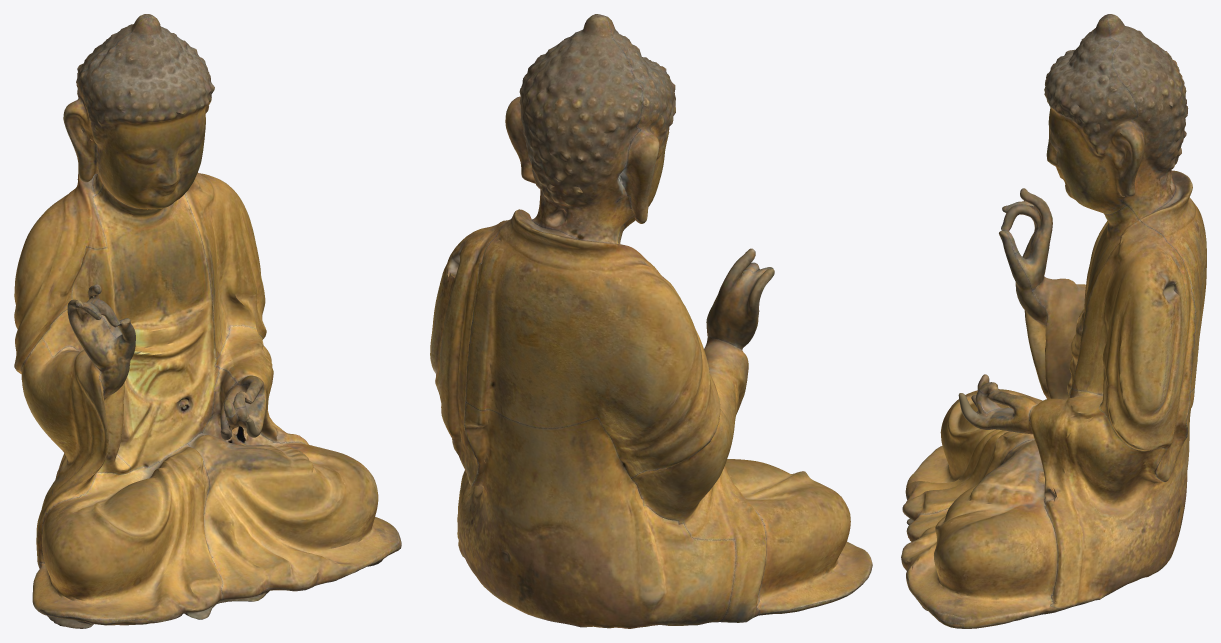
The model's file is duksu-2116-seated.glb.
3 views of the same model, side by side, from view 1: azimuth 30°, elevation 25°; view 2: azimuth 150°, elevation 25°; view 3: azimuth 270°, elevation 25° (orthographic). The views are drawn at different scales.
Visible parts, largest first — view 1: duk002116_002_30000; view 2: duk002116_002_30000; view 3: duk002116_002_30000.
Part boxes in pixels (x1,y1,x2,y2): duk002116_002_30000: [14, 14, 401, 628]; duk002116_002_30000: [430, 14, 872, 628]; duk002116_002_30000: [901, 14, 1206, 628].
Bounding box in the file's own units: 0.7043 × 1 × 0.5237.
1 material, 1 textured.
